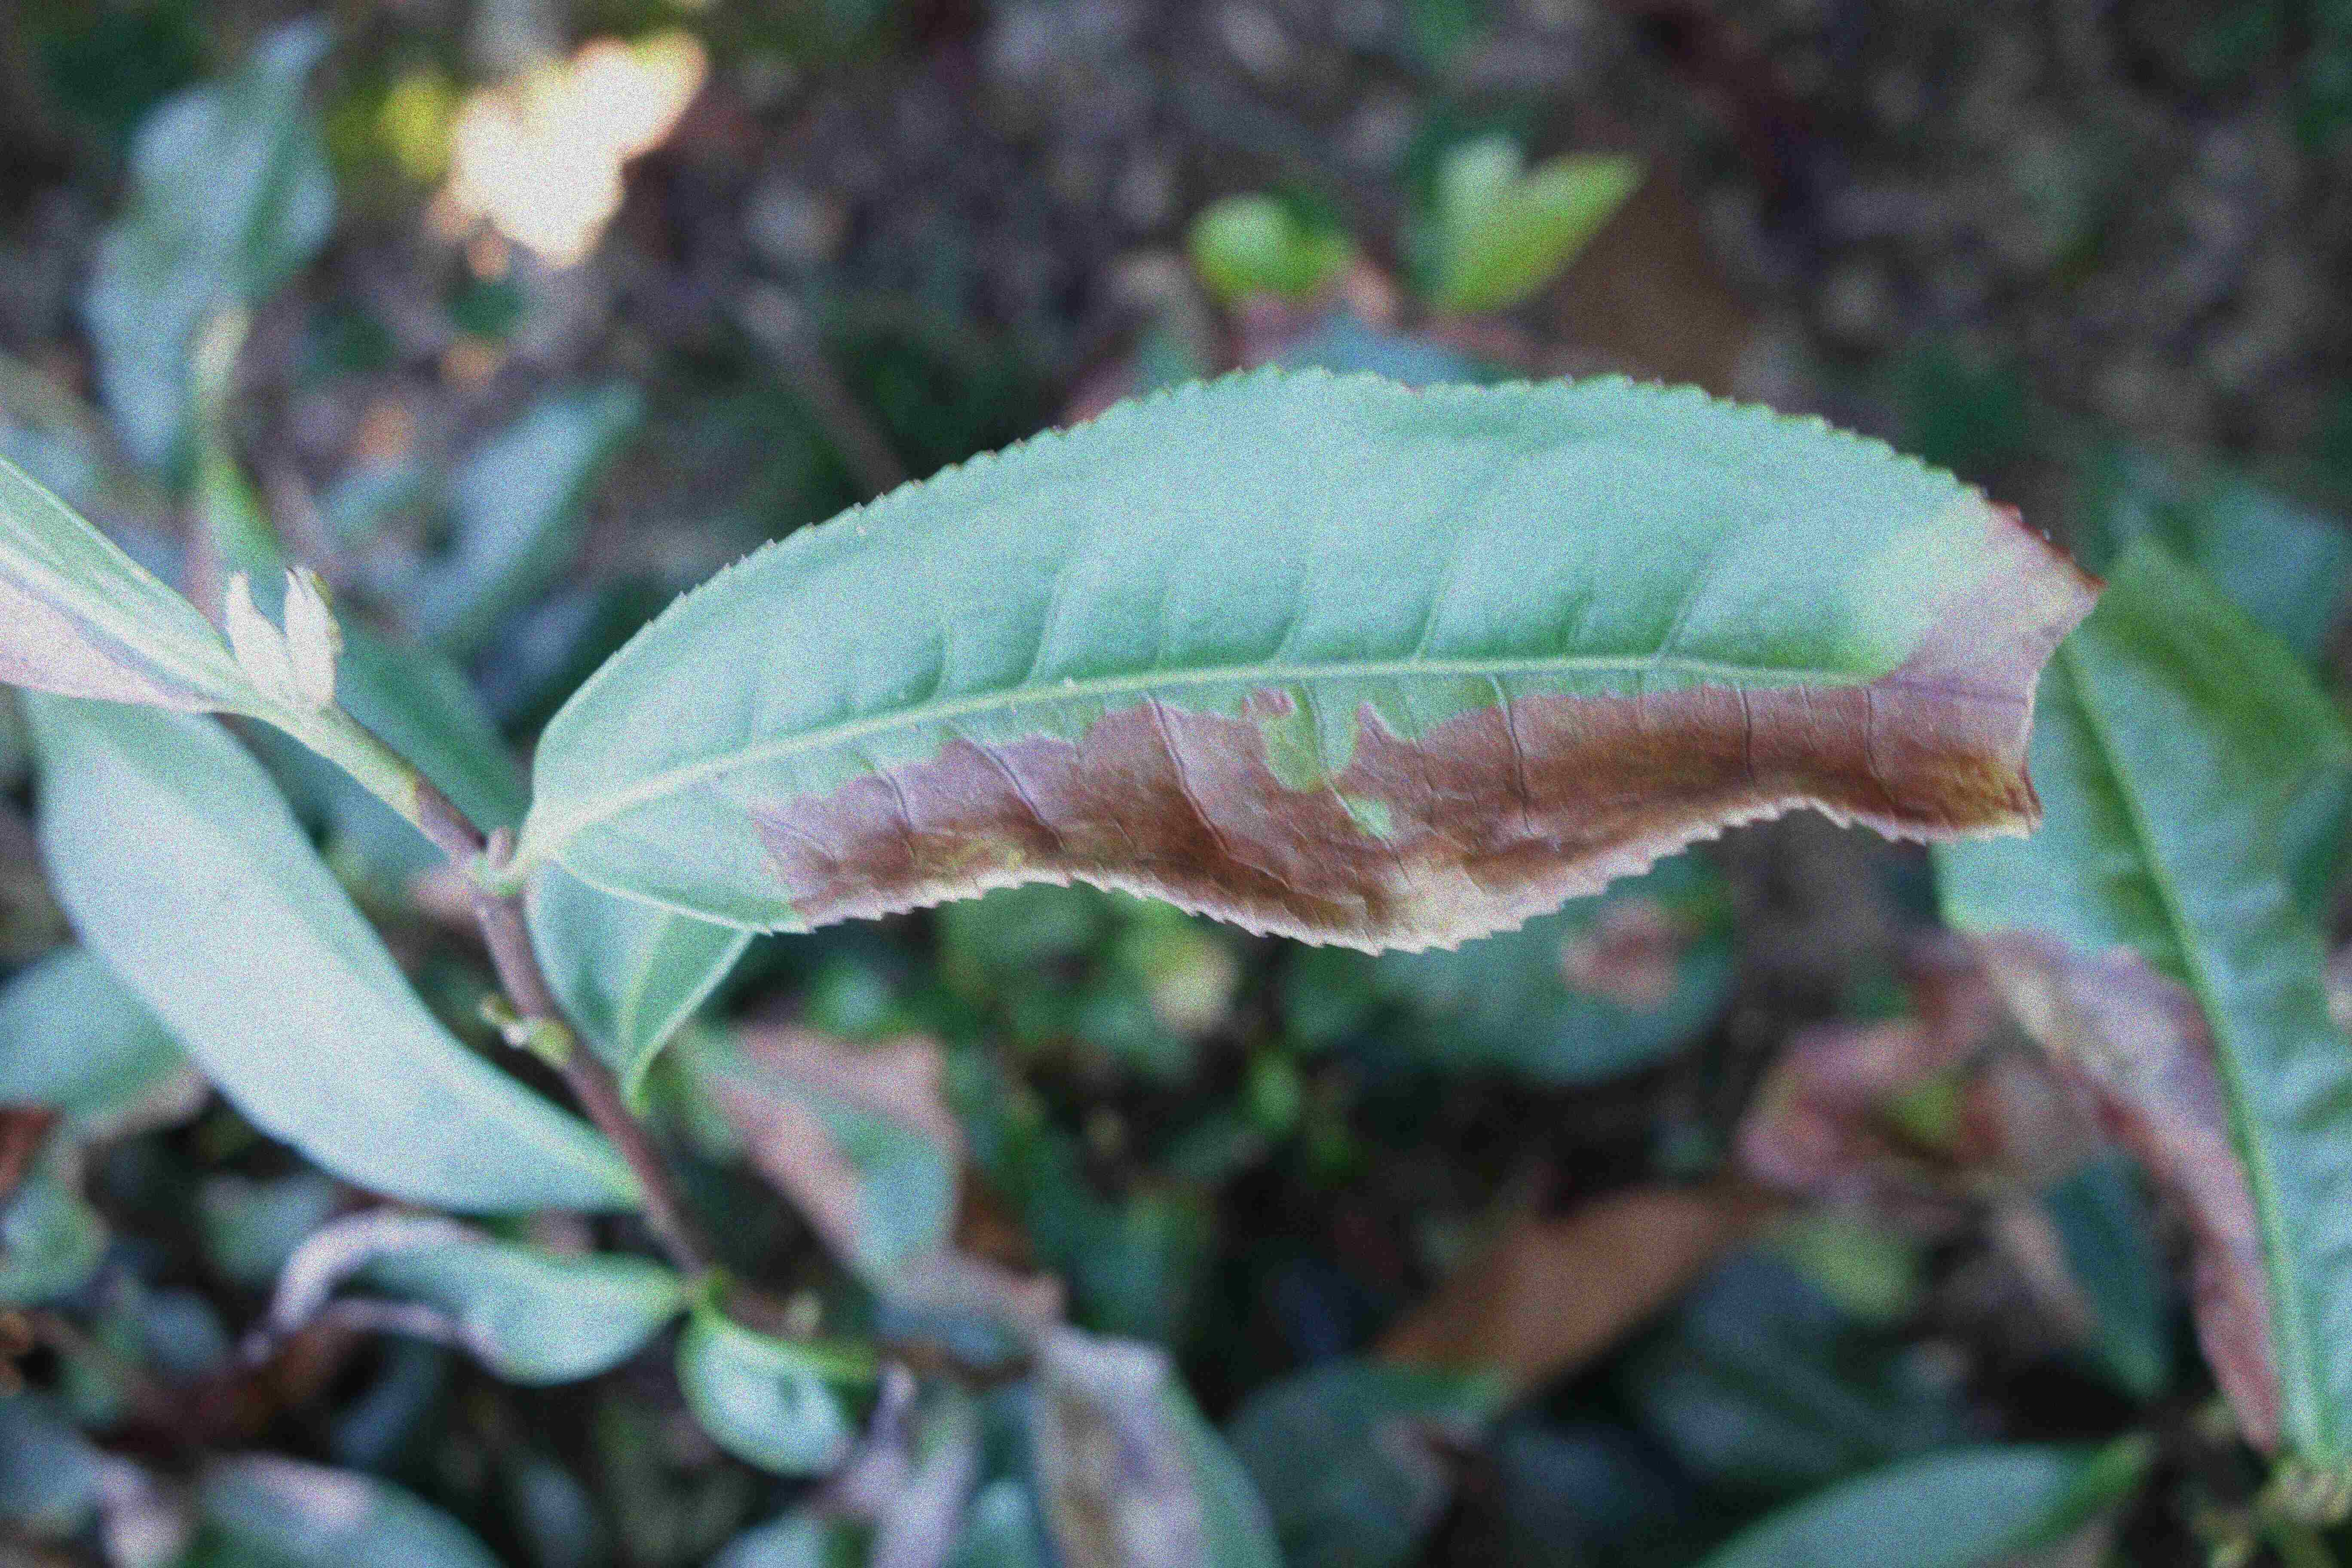tanju_high: (521, 366, 2098, 945)
